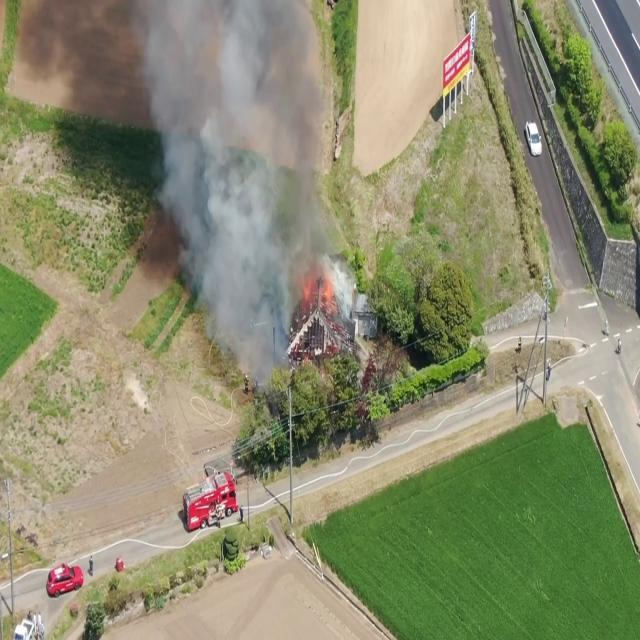Smoke: (139, 1, 358, 376)
